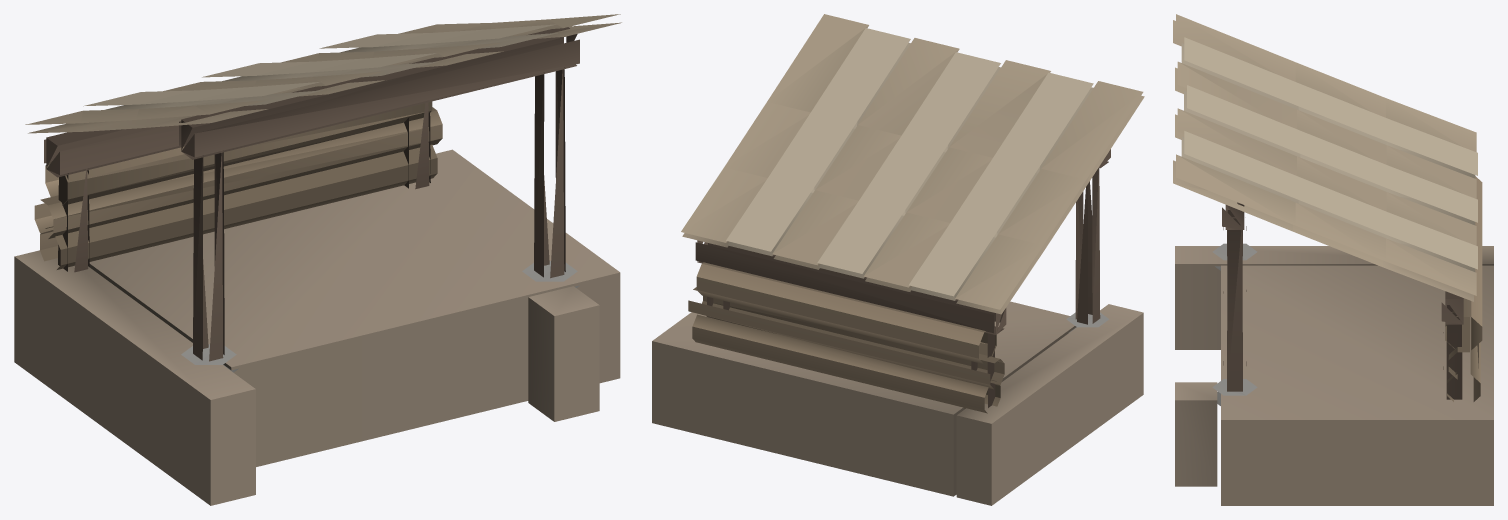
Rendered from leanto.lod.glb.
3 views of the same model, side by side, from view 1: azimuth 30°, elevation 25°; view 2: azimuth 150°, elevation 25°; view 3: azimuth 270°, elevation 25° (orthographic). The views are drawn at different scales.
Visible parts, largest first — view 1: leanto; view 2: leanto; view 3: leanto.
Boxes of the visible parts, x1,y1,x2,y2 form: leanto: (14, 14, 621, 505); leanto: (652, 14, 1144, 505); leanto: (1173, 14, 1493, 505).
Size of the model in its own units: 4.46 by 3.81 by 3.48.
